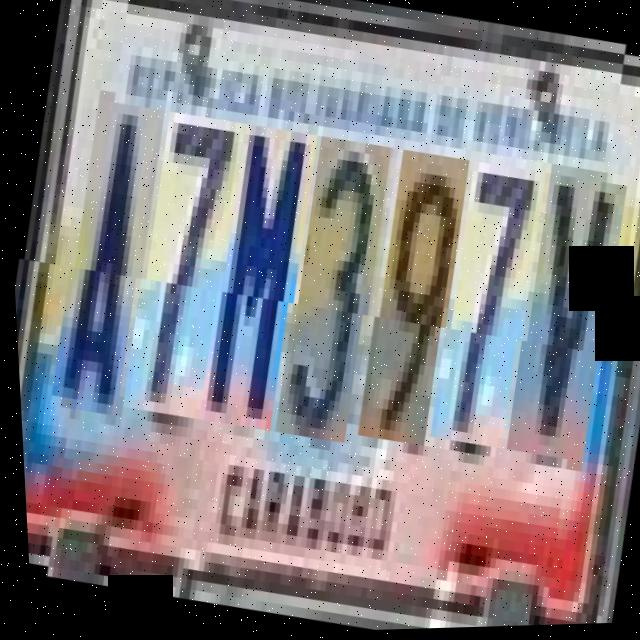3: (263, 137, 404, 448)
7: (111, 111, 257, 423), (419, 163, 555, 454)
9: (347, 151, 479, 451)
A: (38, 99, 176, 419)
M: (187, 124, 328, 435)
V: (495, 166, 638, 468)
